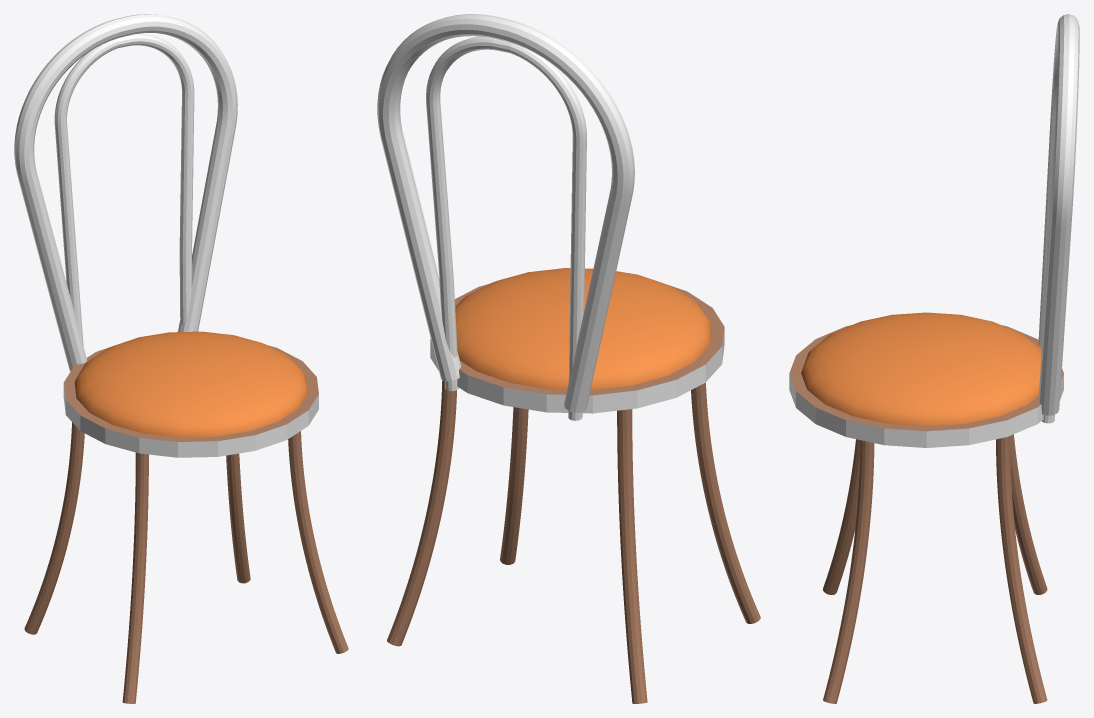
File: chair_yellow.fbx
The picture shows the model from 3 angles, left to right: view 1: azimuth 30°, elevation 25°; view 2: azimuth 150°, elevation 25°; view 3: azimuth 270°, elevation 25°; orthographic projection. The views are drawn at different scales.
Parts seen in each view (by area): view 1: chair_yellow; view 2: chair_yellow; view 3: chair_yellow.
Boxes of the visible parts, x1,y1,x2,y2 form: chair_yellow: (14, 14, 348, 703); chair_yellow: (377, 14, 760, 703); chair_yellow: (789, 14, 1079, 703).
Size of the model in its own units: 1.39 by 3.43 by 1.46.
